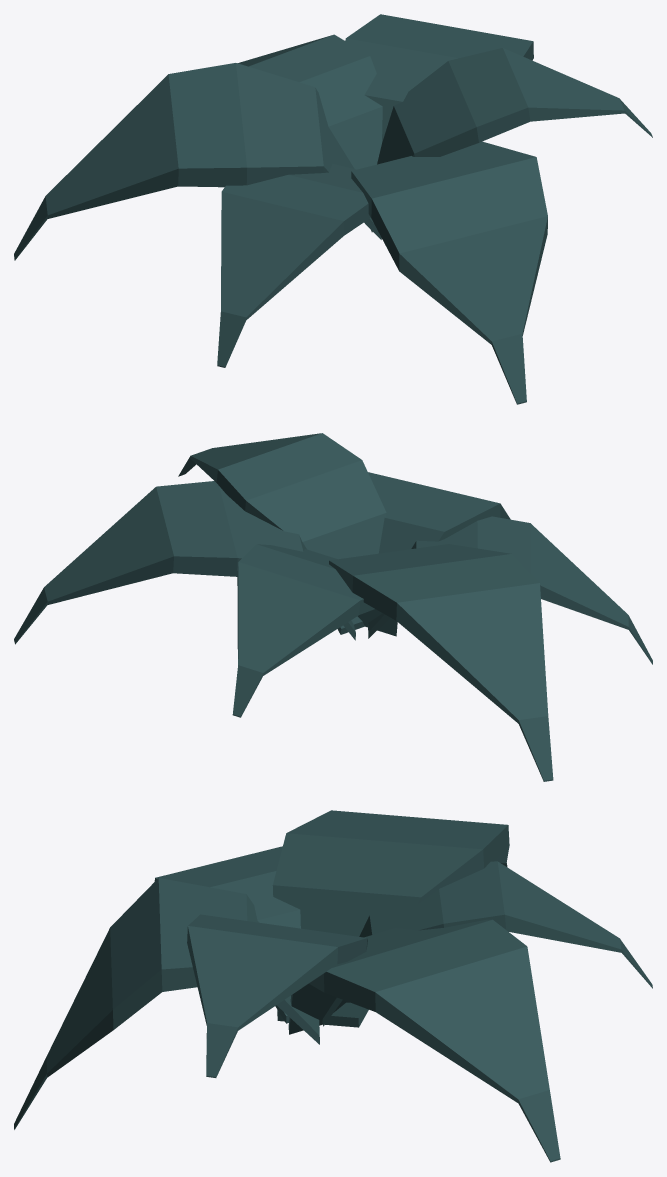
Rendered from Plant_01.fbx.
3 renders of one model, top to bottom at view 1: azimuth 30°, elevation 25°; view 2: azimuth 150°, elevation 25°; view 3: azimuth 270°, elevation 25°, orthographic. The views are drawn at different scales.
Parts seen in each view (by area): view 1: Plant_01; view 2: Plant_01; view 3: Plant_01.
Boxes of the visible parts, x1=… form: Plant_01: x1=14, y1=14, x2=652, y2=404; Plant_01: x1=14, y1=433, x2=652, y2=781; Plant_01: x1=14, y1=810, x2=652, y2=1162.
Size of the model in its own units: 240 by 95.24 by 221.
